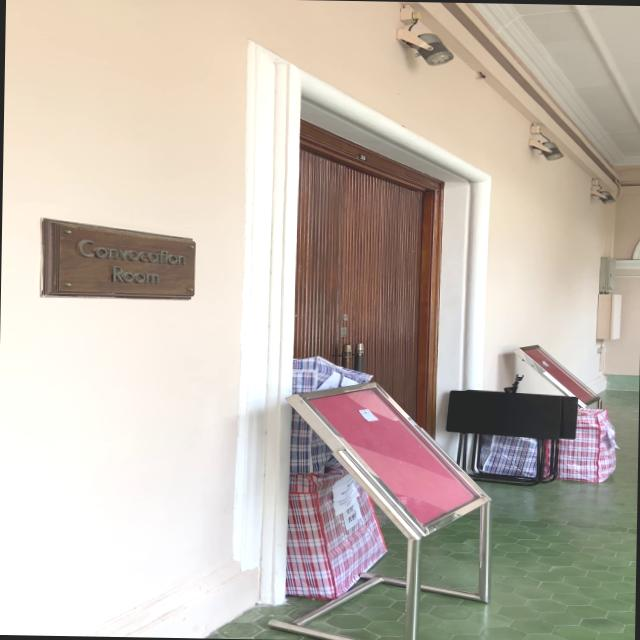room218: (357, 152, 368, 160)
